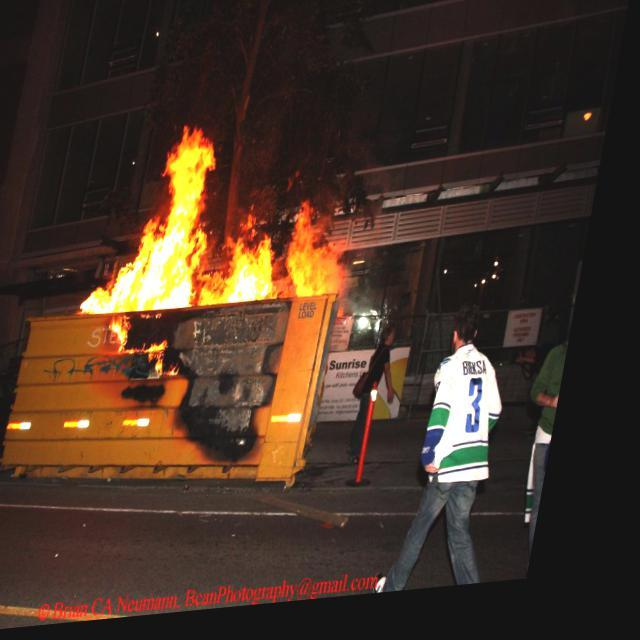Fire: (93, 120, 368, 322)
